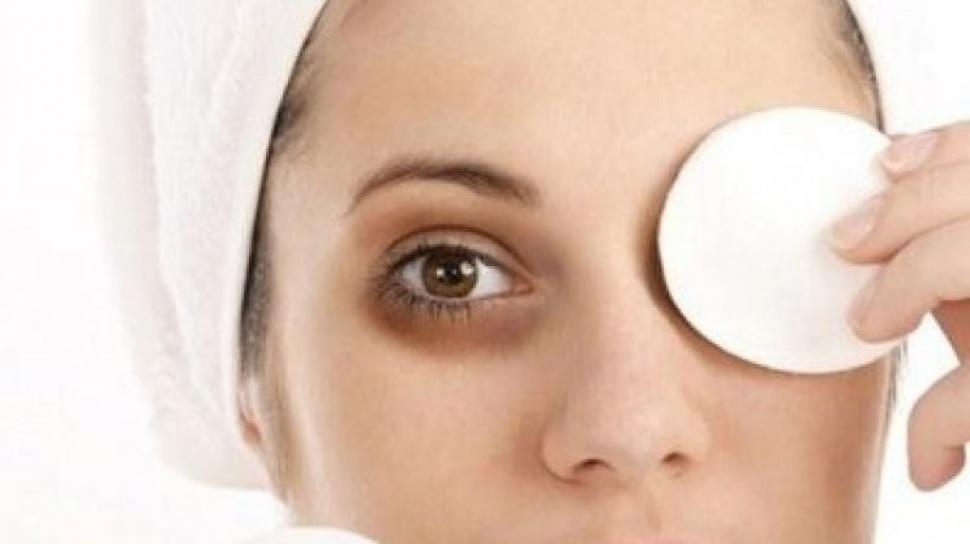Eyebags: (353, 207, 575, 360)
